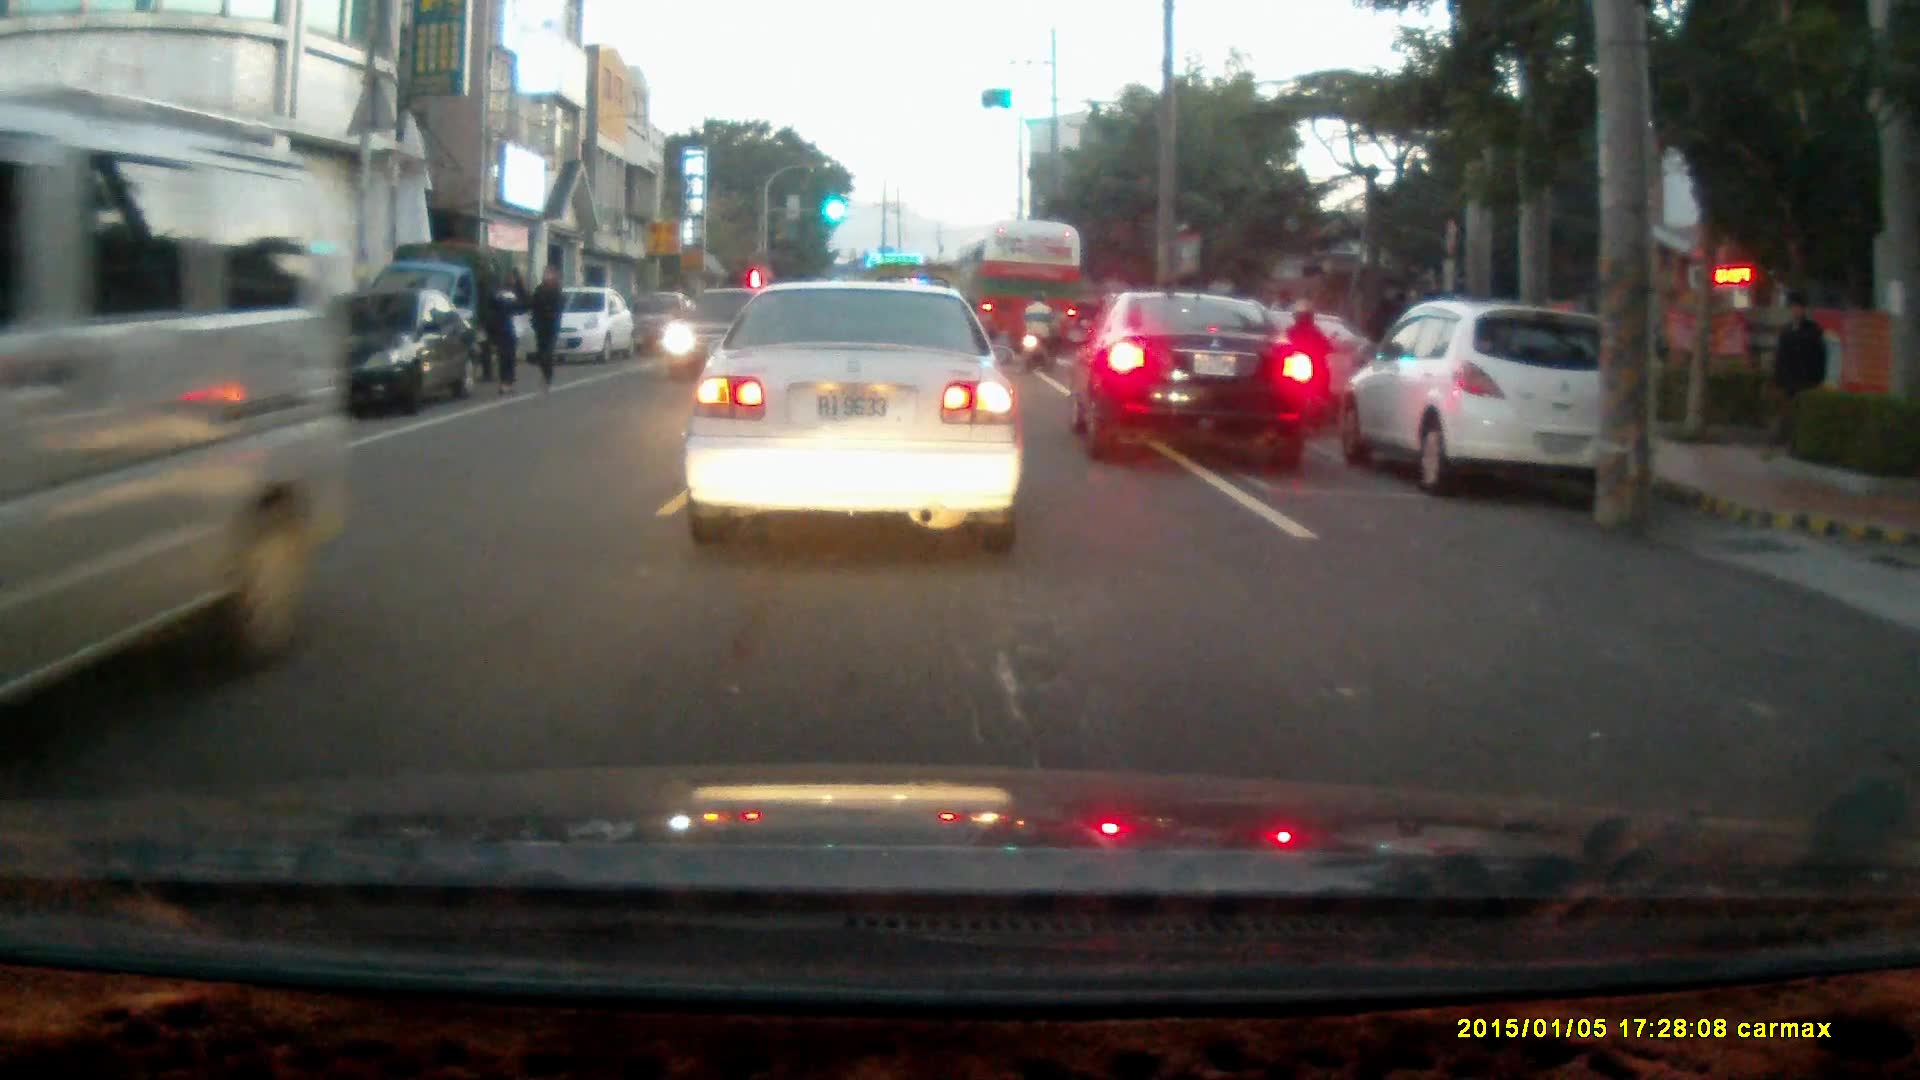pedestrian: (1769, 289, 1829, 460), (484, 265, 527, 394), (526, 262, 564, 398)
rider: (1284, 299, 1340, 441), (1019, 293, 1055, 370)
vehicle: (1, 114, 359, 766), (680, 282, 1028, 557), (1336, 298, 1645, 501), (1068, 293, 1311, 472), (963, 221, 1088, 366), (666, 282, 761, 382), (520, 286, 637, 364)
